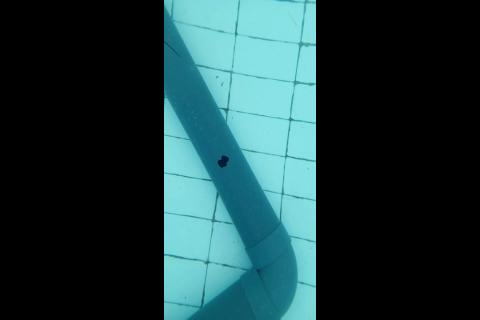kebocoran: (217, 154, 229, 169)
keretakan: (163, 39, 180, 58)
